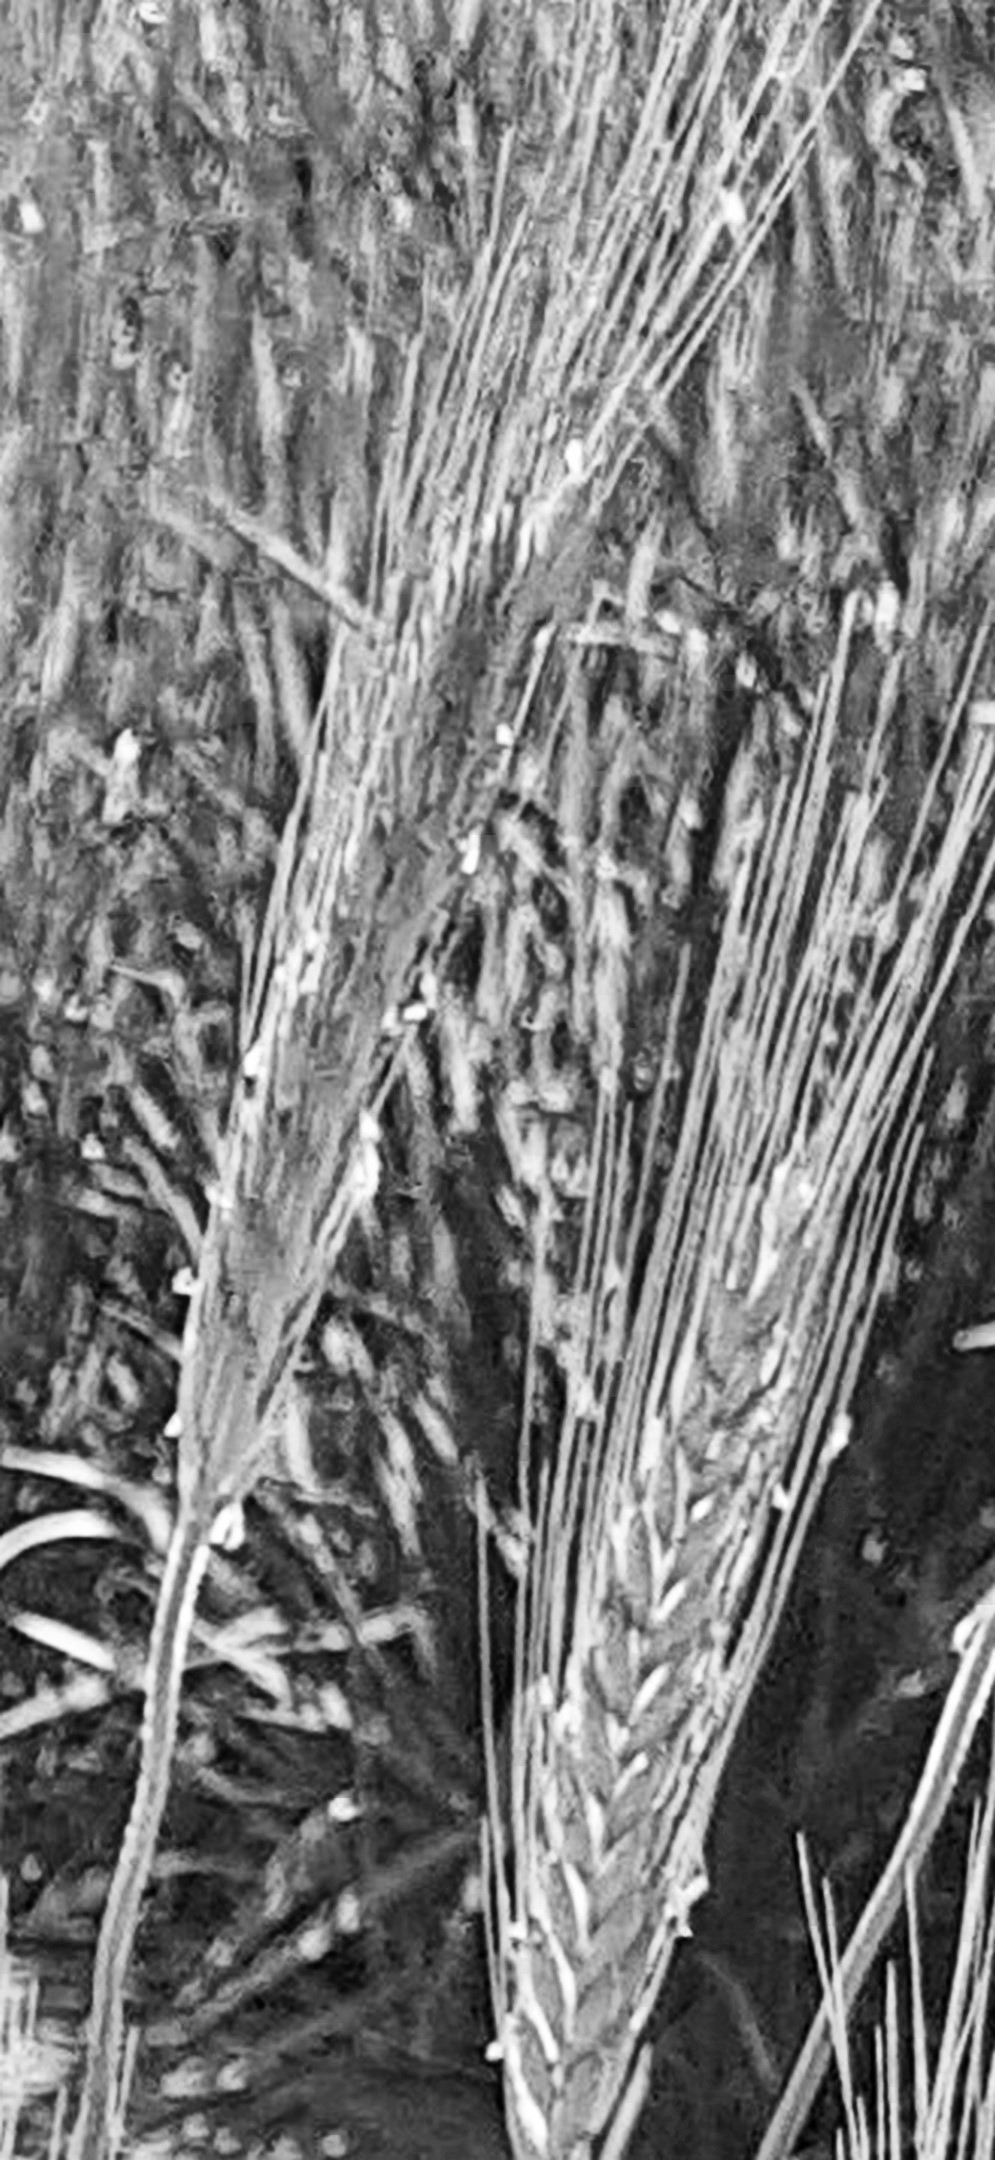Healthy Wheat: (473, 1142, 854, 2132)
